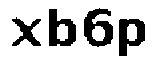6: (80, 3, 115, 49)
b: (44, 8, 79, 48)
p: (113, 12, 147, 60)
x: (9, 15, 41, 48)
